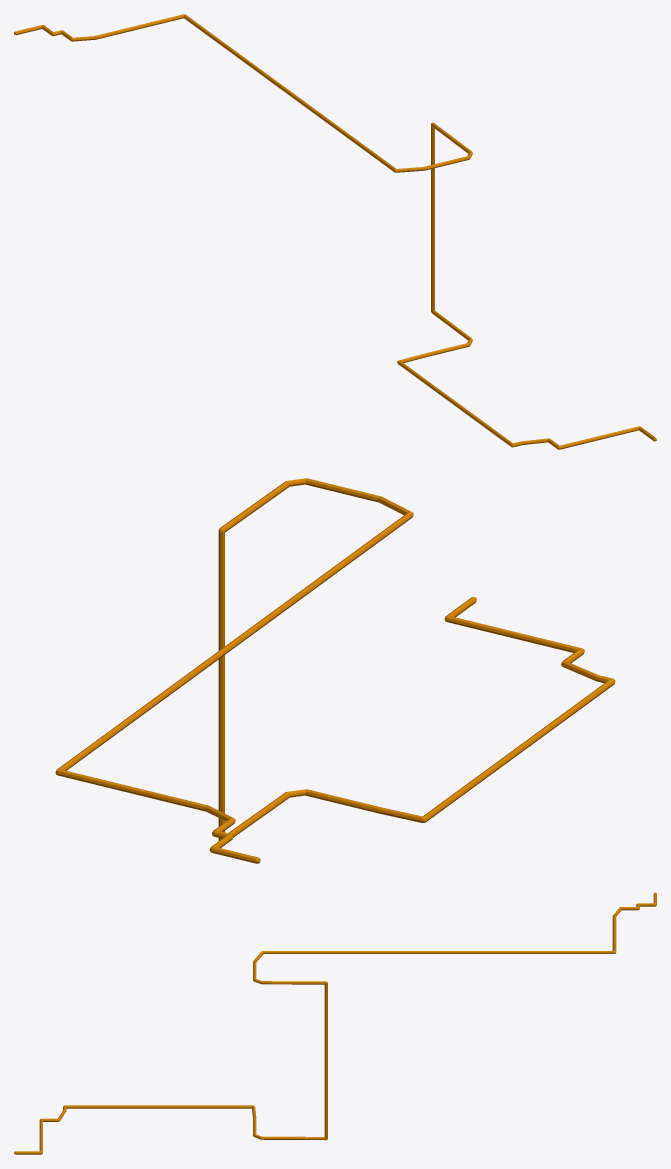
The picture shows the model from 3 angles, top to bottom: view 1: azimuth 30°, elevation 25°; view 2: azimuth 150°, elevation 25°; view 3: azimuth 270°, elevation 25°; orthographic projection. The views are drawn at different scales.
Size of the model in its own units: 1445 by 1020 by 3748.
